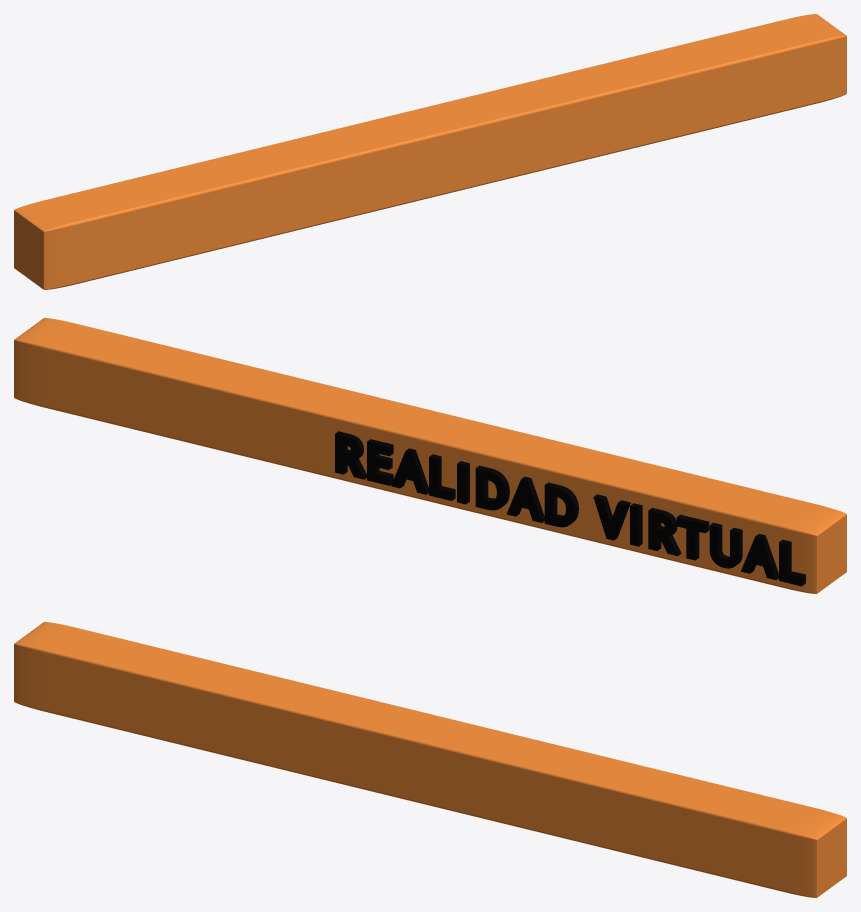
File: realidadvirtual.glb
3 renders of one model, top to bottom at view 1: azimuth 30°, elevation 25°; view 2: azimuth 150°, elevation 25°; view 3: azimuth 330°, elevation 25°, orthographic.
Visible parts, largest first — view 1: Box; view 2: Box, 3D Text - A (×3), 3D Text - D (×2), 3D Text - R (×2), 3D Text - L (×2), 3D Text - U, 3D Text - I (×2), 3D Text - E, 3D Text - V, 3D Text - T; view 3: Box.
Boxes of the visible parts, box(x1,y1,x2,y2) form: Box: box(14, 14, 846, 289); Box: box(14, 318, 846, 593); 3D Text - A (×3): box(391, 448, 778, 580); 3D Text - D (×2): box(475, 465, 578, 527); 3D Text - R (×2): box(335, 431, 681, 555); 3D Text - L (×2): box(429, 454, 805, 586); 3D Text - U: box(709, 522, 742, 568); 3D Text - I (×2): box(457, 461, 642, 546); 3D Text - E: box(367, 439, 393, 485); 3D Text - V: box(593, 494, 630, 540); 3D Text - T: box(676, 514, 709, 560); Box: box(14, 622, 846, 897).
Size of the model in its own units: 1.45 by 0.1081 by 0.1119.
